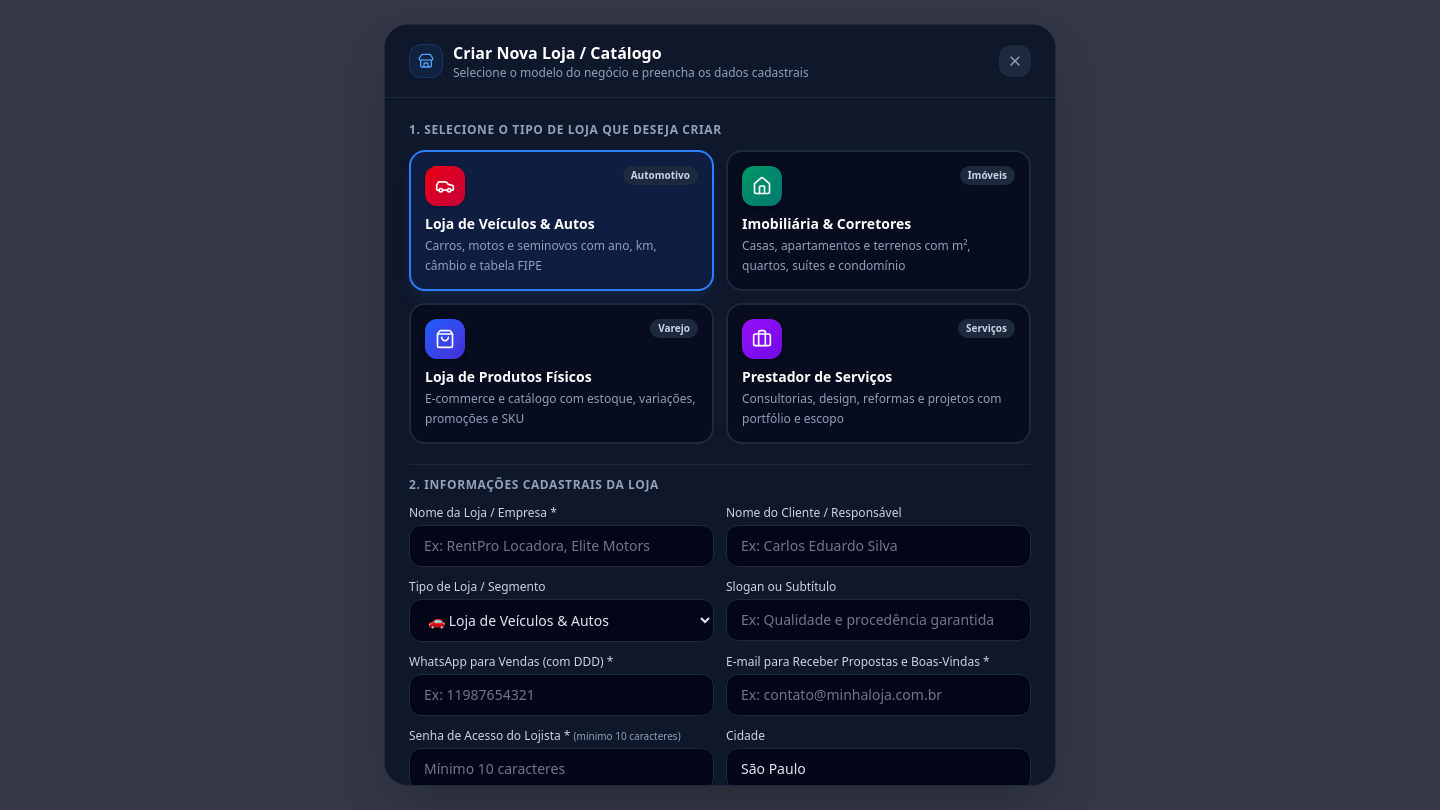
it: StoreCreatorModal - Tratamento de Erros e Usabilidade › Componente StoreCreatorModal - Exibição, Scroll e Foco de Erro › exibe a mensagem de erro também logo acima do botão "Criar Loja"
Type "Auto Peças Modelo" into the field with placeholder "Ex: RentPro Locadora, Elite Motors" at (562, 546), box [409,525,714,567]
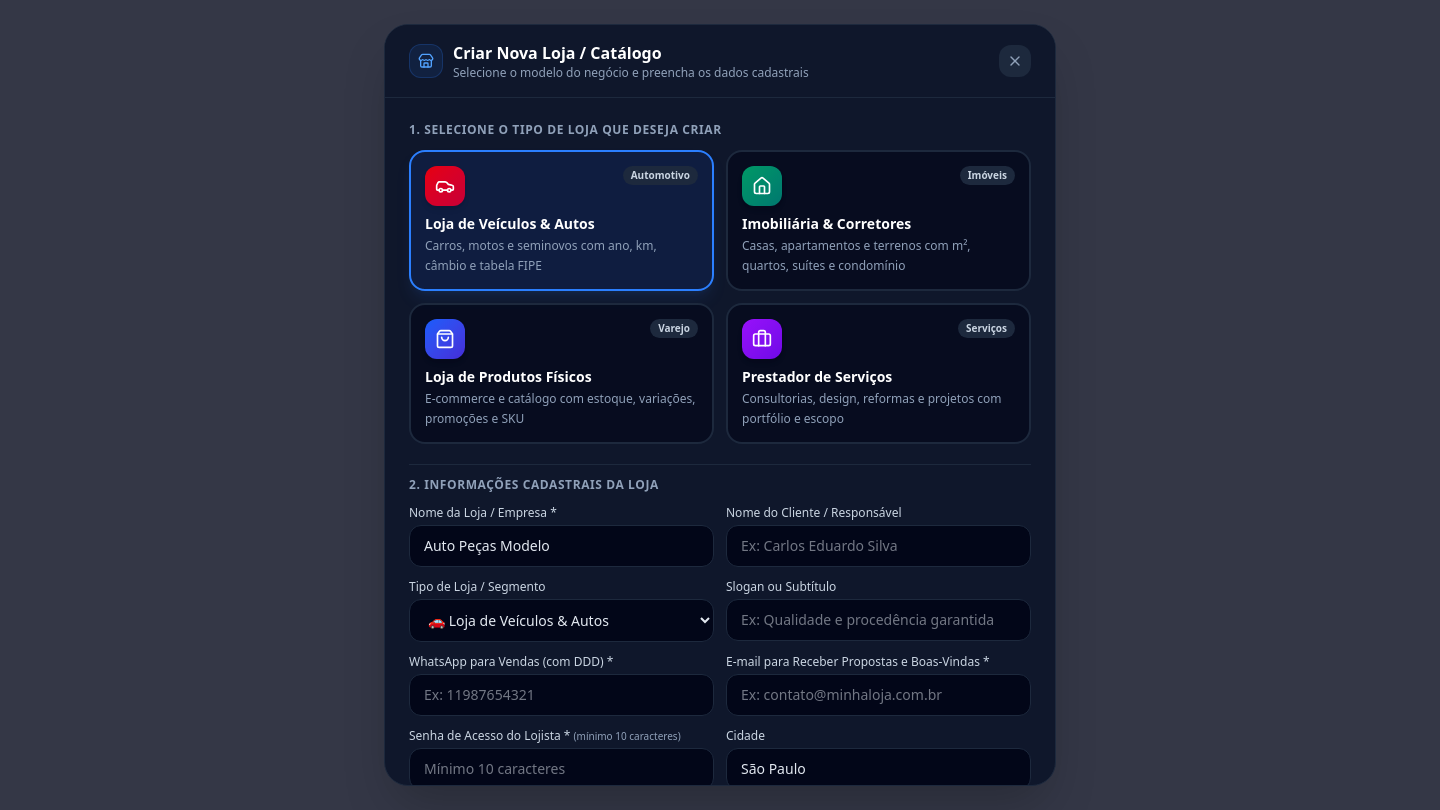
Type "11988887777" into the field with placeholder "Ex: 11987654321" at (562, 695), box [409,674,714,716]
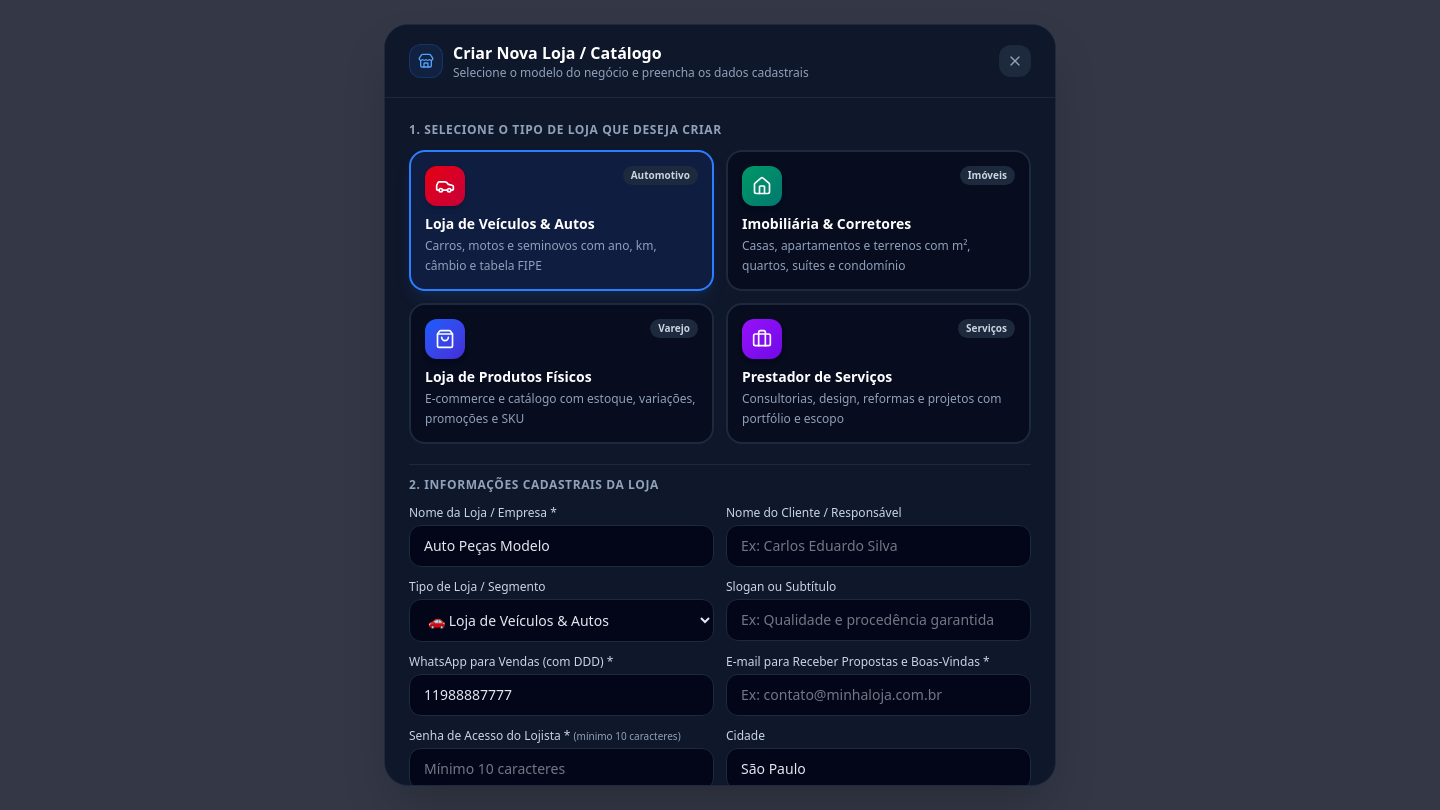
Type "contato@modelo.com" into the field with placeholder "Ex: contato@minhaloja.com.br" at (878, 695), box [726,674,1031,716]
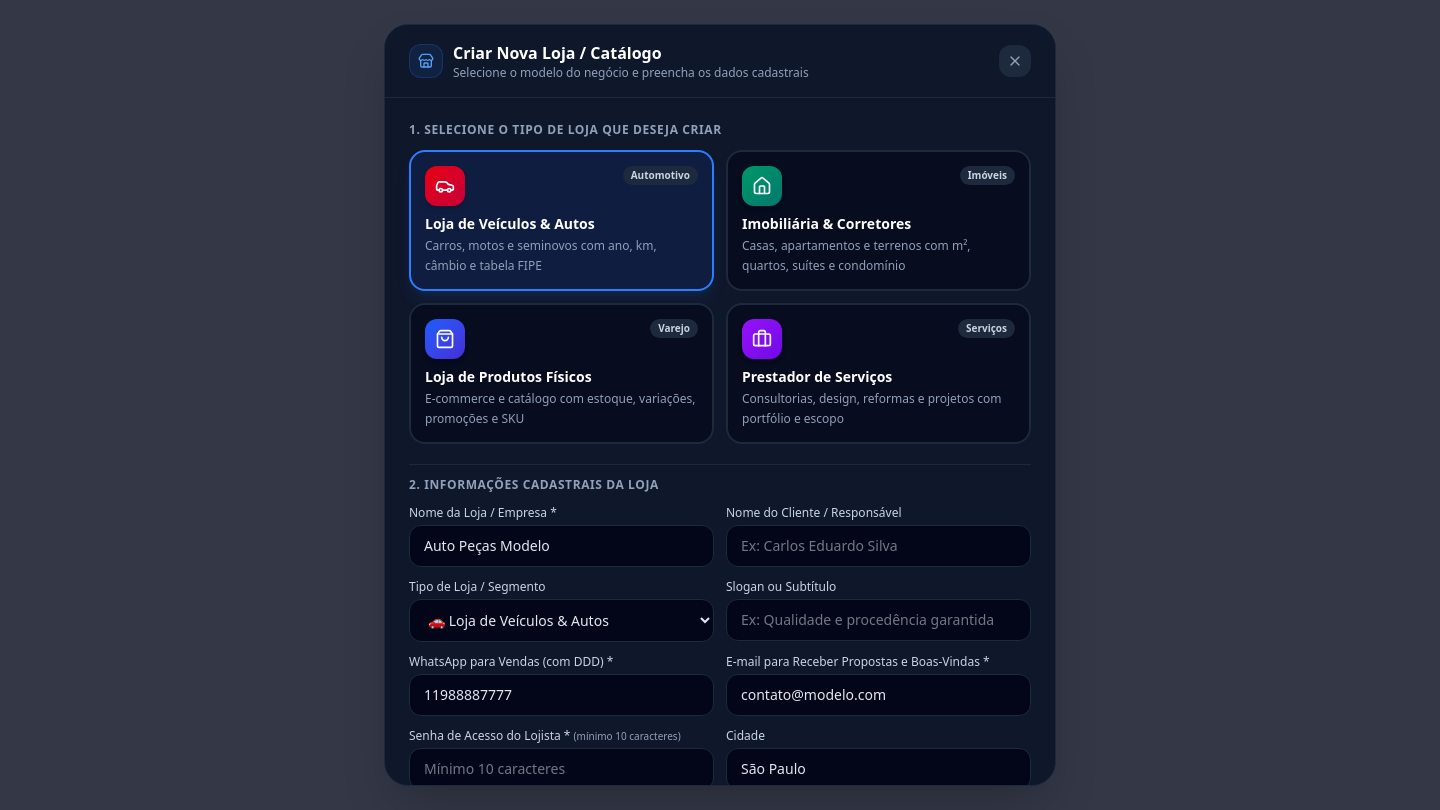
Type "SenhaSegura123!" into the password field with placeholder "Mínimo 10 caracteres" at (562, 769), box [409,748,714,790]
(page scrolled)
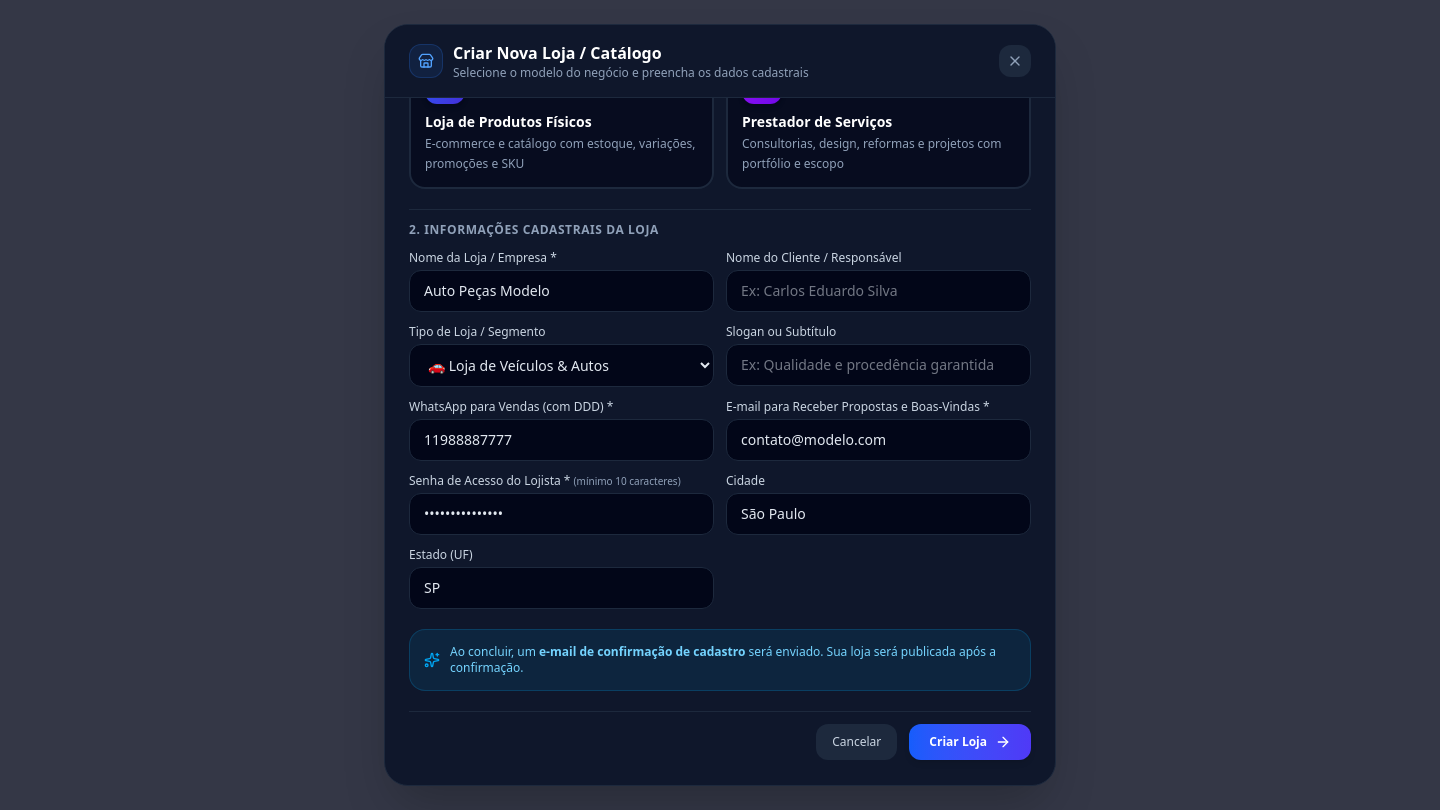
Click the button "Criar Loja" at (970, 742), box [909,724,1031,760]
(page scrolled)
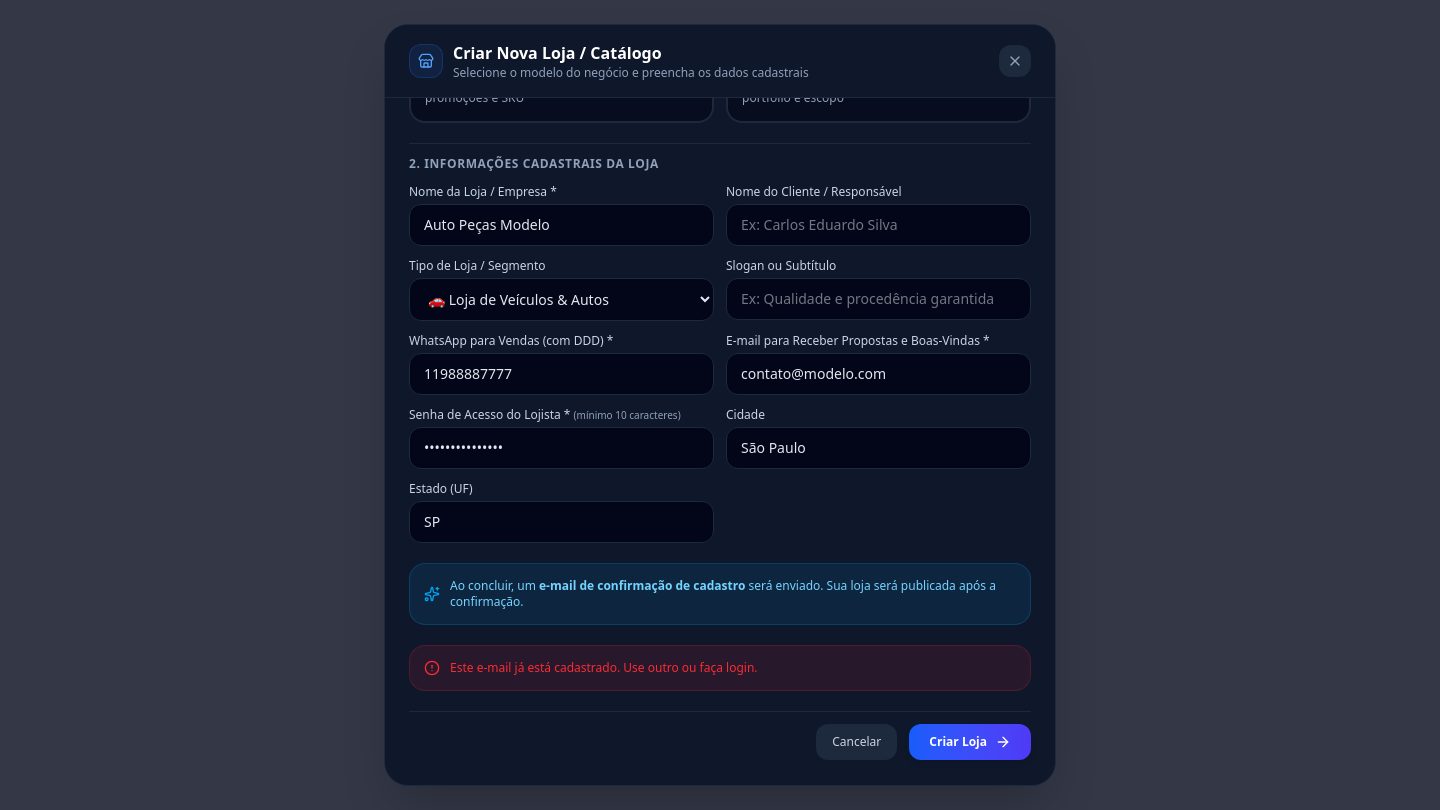
Now the message "Este e-mail já está cadastrado. Use outro ou faça login." is shown, box [409,645,1031,691]
Now the message with test id "bottom-error-message" reads "Este e-mail já está cadastrado. Use outro ou faça login.", box [450,659,758,676]
